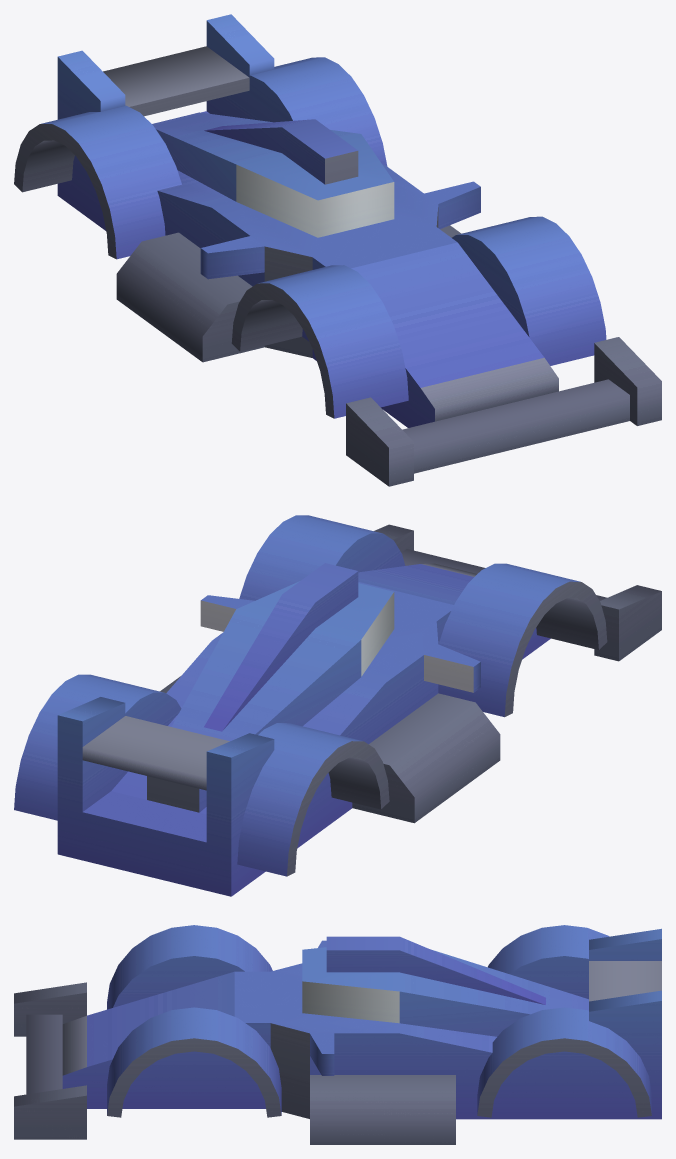
Rendered from race-future(1).glb.
3 renders of one model, top to bottom at view 1: azimuth 30°, elevation 25°; view 2: azimuth 150°, elevation 25°; view 3: azimuth 270°, elevation 25°, orthographic. The views are drawn at different scales.
Parts seen in each view (by area): view 1: body; view 2: body; view 3: body.
Boxes of the visible parts, x1,y1,x2,y2 form: body: (14,14,661,486); body: (14,515,661,896); body: (14,925,661,1144).
Bounding box in the file's own units: 1.2 × 0.6325 × 2.66.
1 material, 1 textured.
